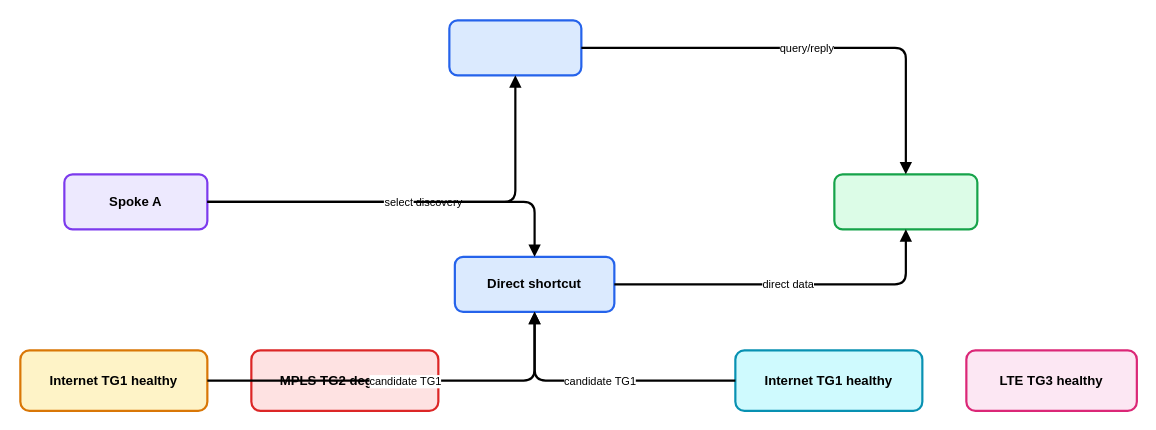
This 1156x430 diagram has some shape labels left out. The shapes that lost their labels are listed below. From the top down, each one's box as (x1, y1, x2, y2) in pixels, then its label:
(448, 19, 582, 76): Hub
(833, 173, 978, 230): Spoke B
